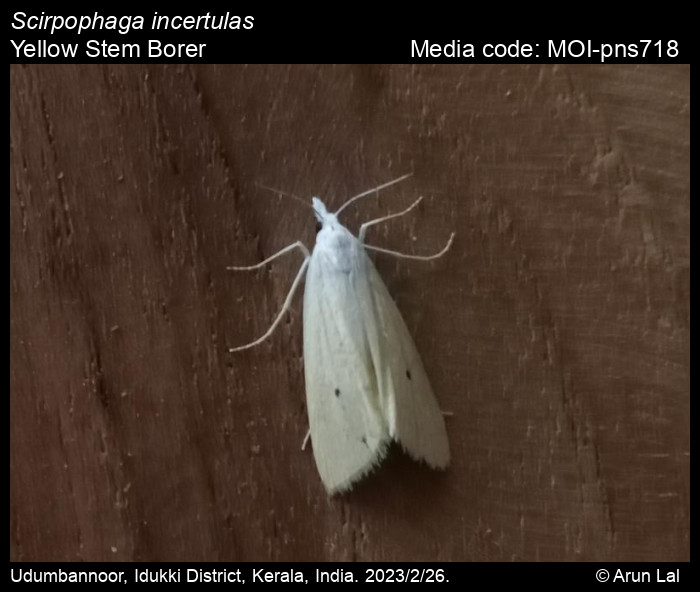Crambidae: (225, 164, 454, 498)
